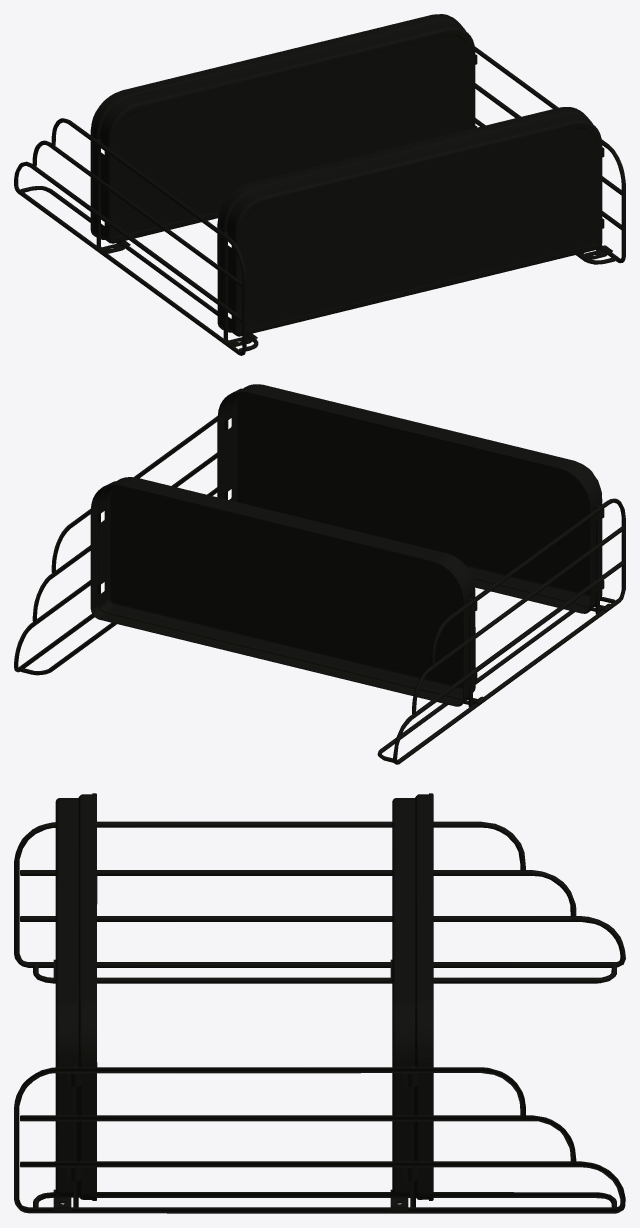
Rendered from apotekare_poka_scienna_00550196.glb.
The picture shows the model from 3 angles, top to bottom: view 1: azimuth 30°, elevation 25°; view 2: azimuth 150°, elevation 25°; view 3: azimuth 270°, elevation 25°; orthographic projection. The views are drawn at different scales.
Parts seen in each view (by area): view 1: apotekare_poka_scienna_00550196; view 2: apotekare_poka_scienna_00550196; view 3: apotekare_poka_scienna_00550196.
Part boxes in pixels (x1,y1,x2,y2): apotekare_poka_scienna_00550196: [14, 14, 625, 355]; apotekare_poka_scienna_00550196: [14, 384, 625, 764]; apotekare_poka_scienna_00550196: [14, 793, 625, 1213].
Size of the model in its own units: 0.499 by 0.1795 by 0.5174.
1 material, 1 textured.
